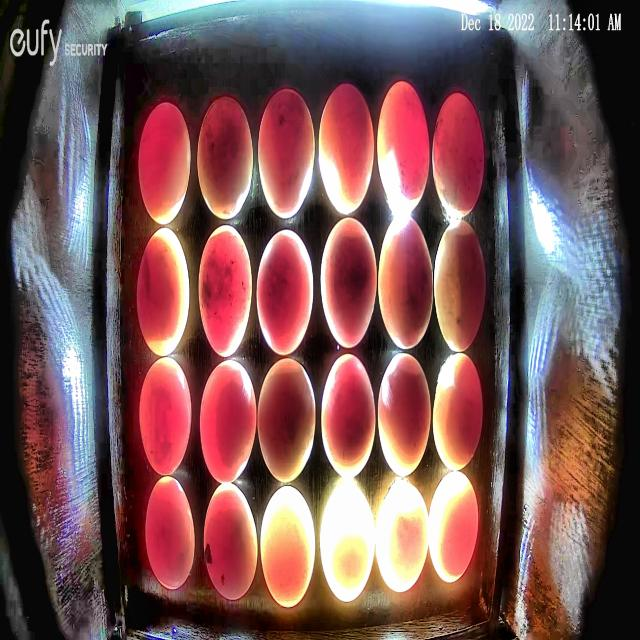DE: (376, 478, 430, 592), (428, 469, 479, 582)
FE: (257, 87, 315, 221), (320, 215, 378, 348), (255, 228, 314, 358), (196, 224, 253, 358), (318, 82, 374, 216), (378, 214, 434, 348), (376, 80, 431, 216), (257, 358, 317, 481), (199, 358, 257, 484), (320, 351, 376, 480), (197, 94, 254, 220), (378, 351, 432, 478), (137, 227, 190, 356), (434, 219, 485, 352), (201, 480, 258, 598), (139, 354, 192, 477), (138, 99, 190, 224), (432, 92, 483, 217), (433, 353, 484, 469), (146, 476, 195, 590)
UF: (259, 484, 317, 610), (318, 480, 376, 604)
